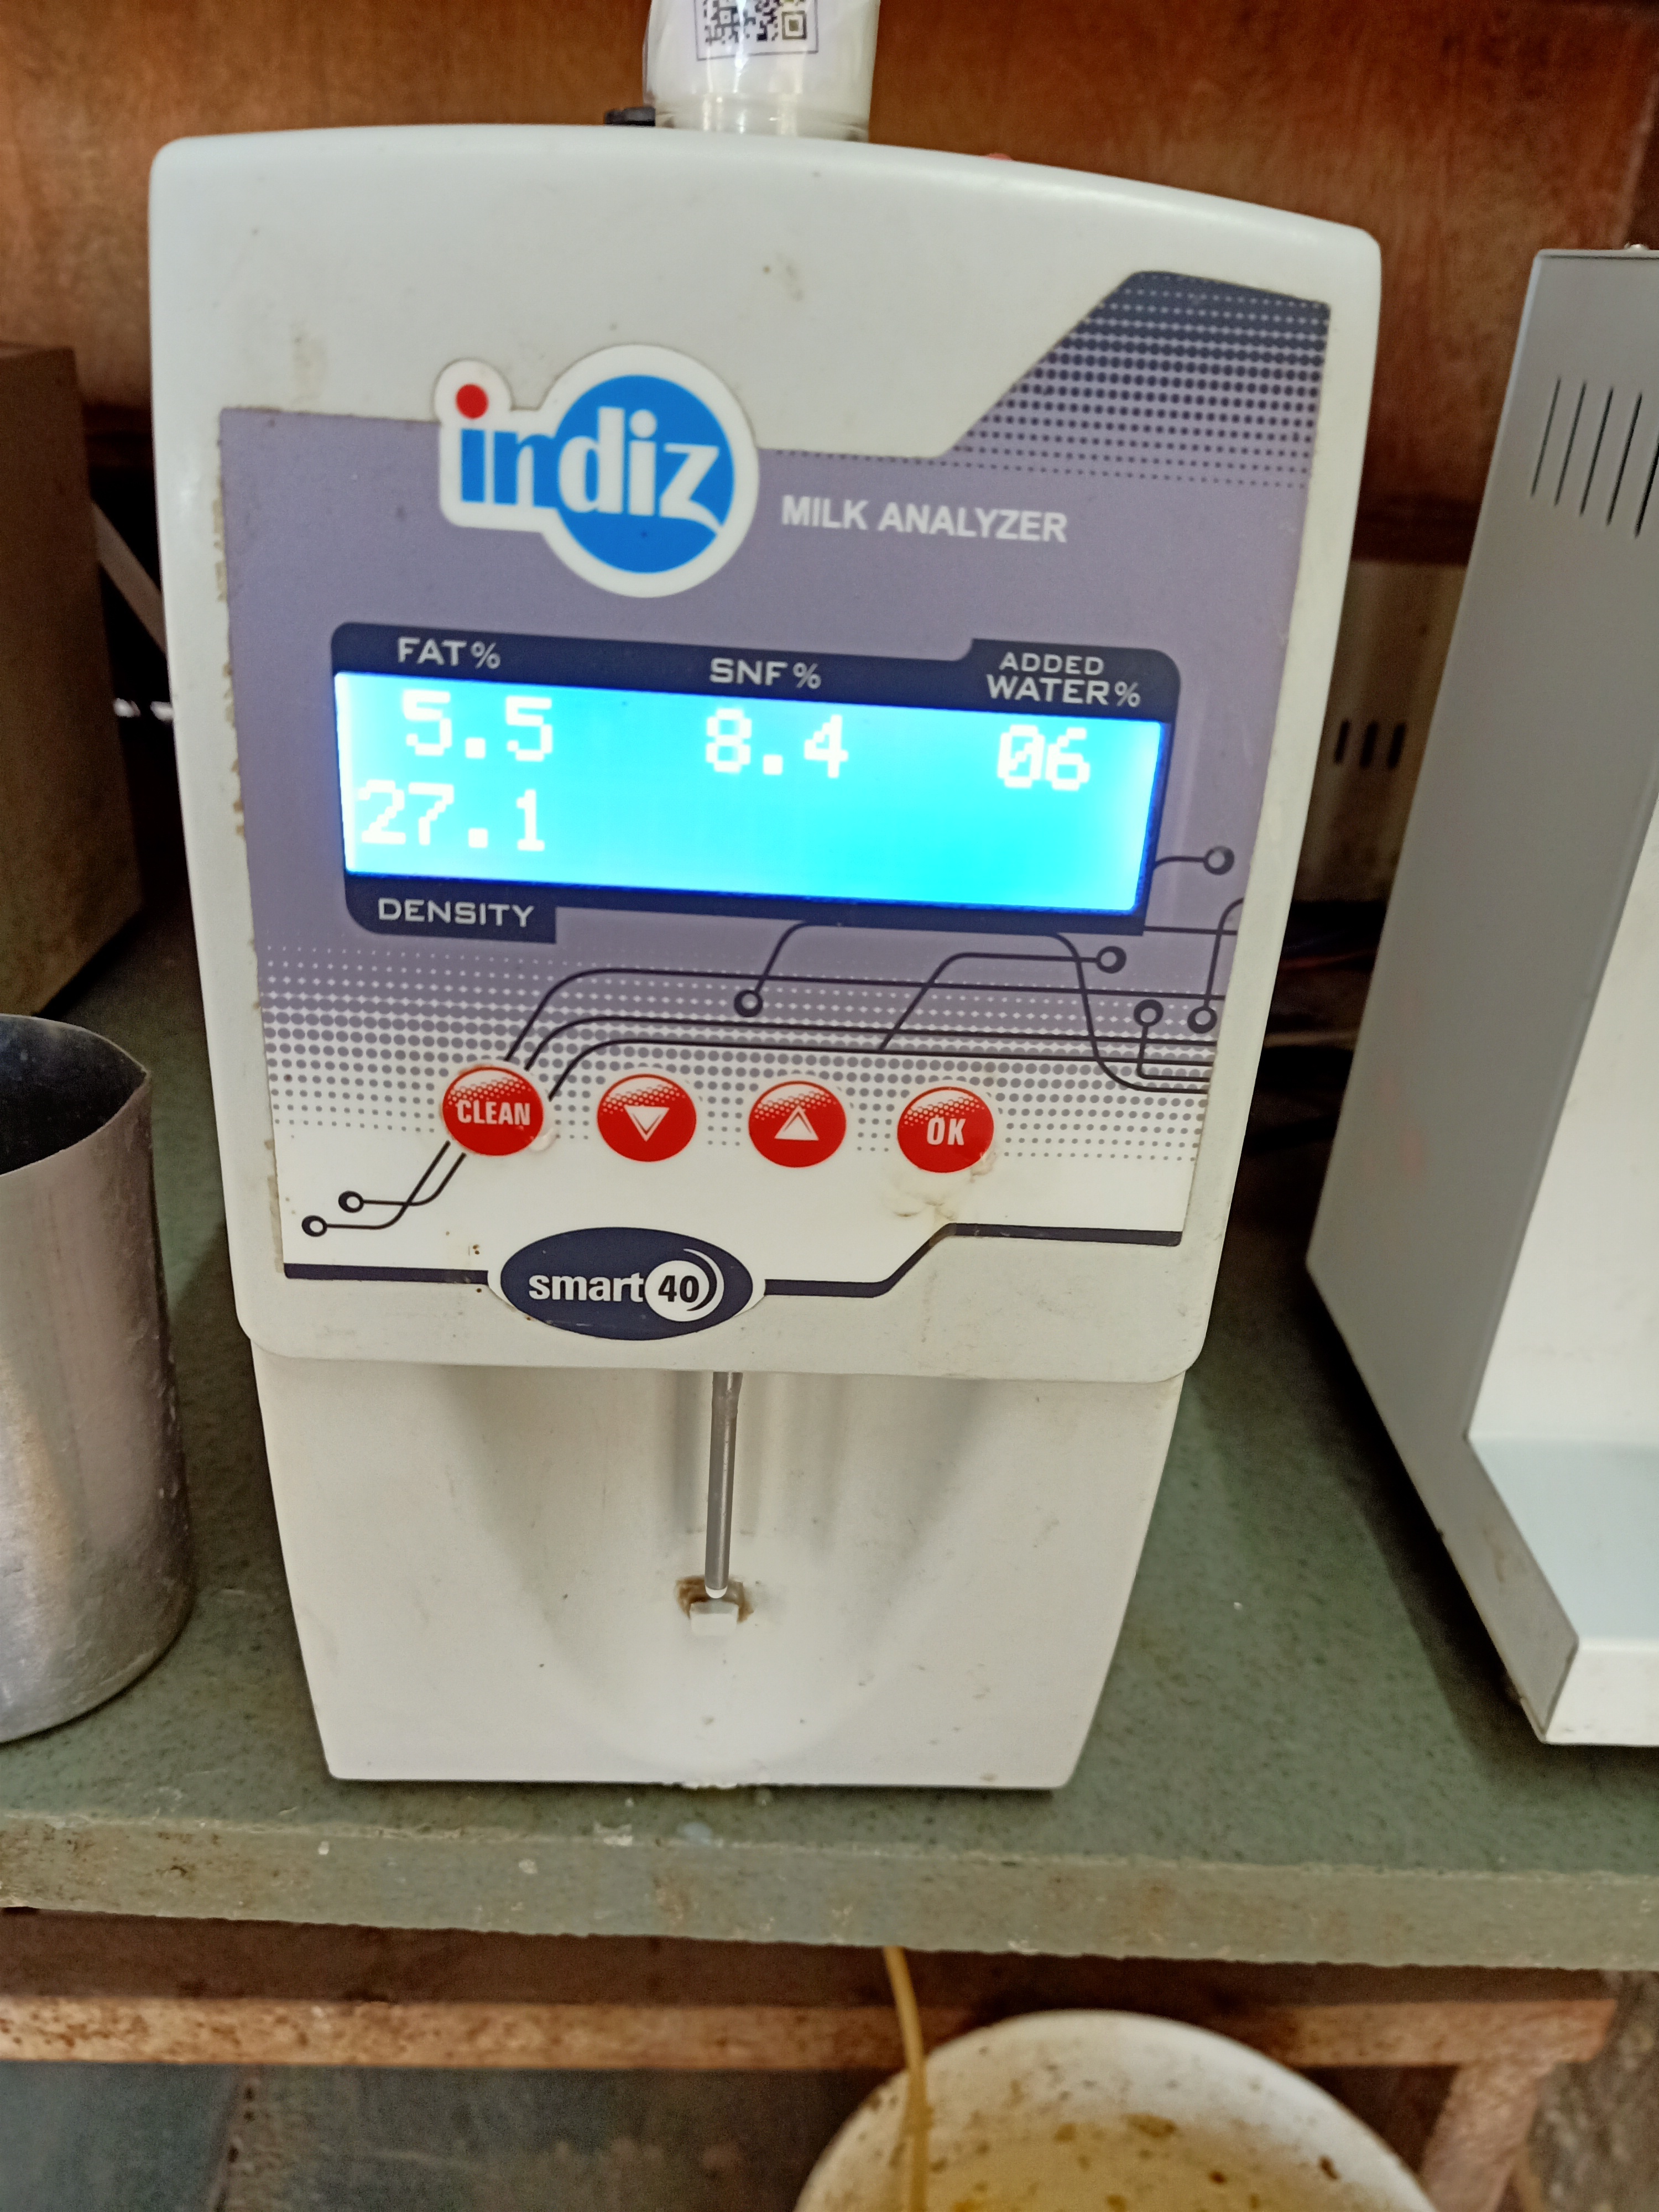lcd: (328, 657, 1166, 930)
